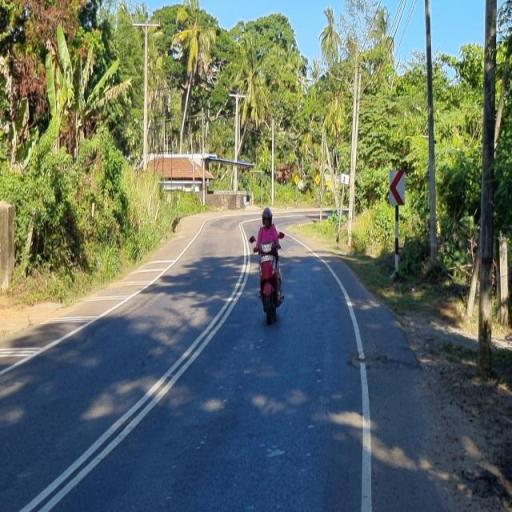double_white_line: (16, 218, 252, 512)
